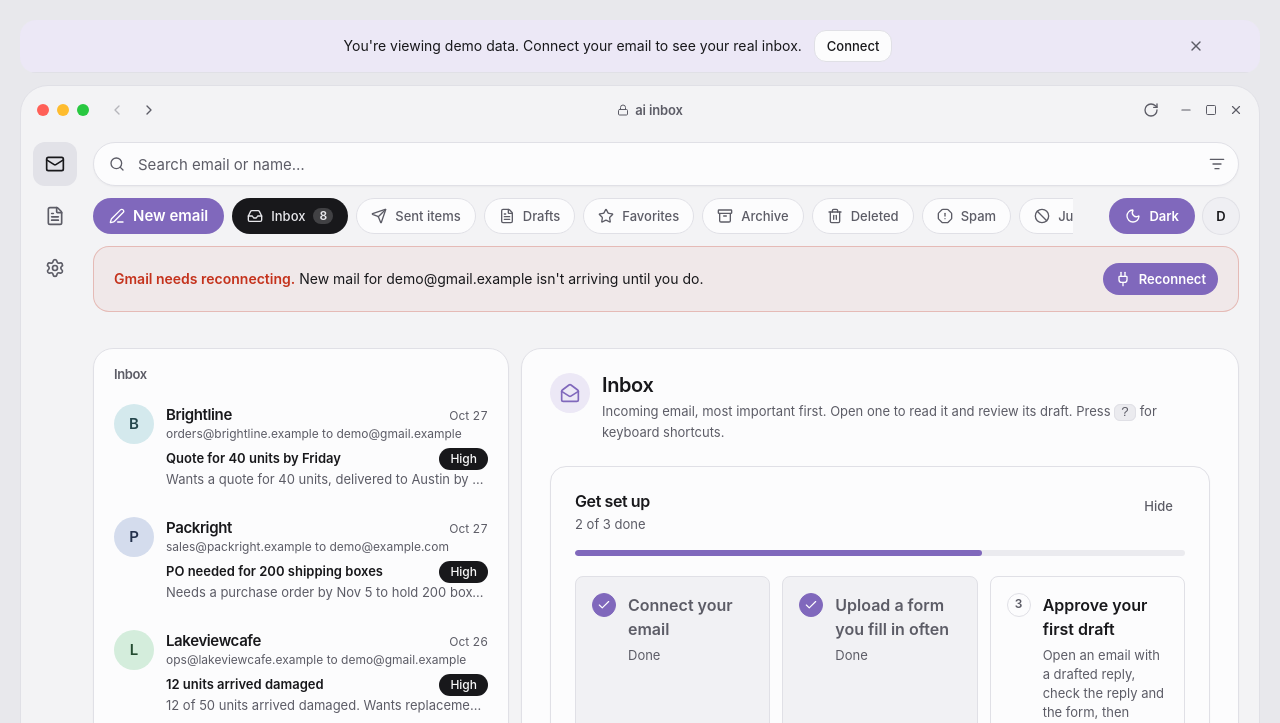
Test: app › reconnects the account that needs it, with its own provider
Expected: the message shows "Gmail needs reconnecting. New mail for demo@gmail.example", [93,246,1239,312]
Click the button "Reconnect" at (1160, 279), box [1103,263,1218,295]
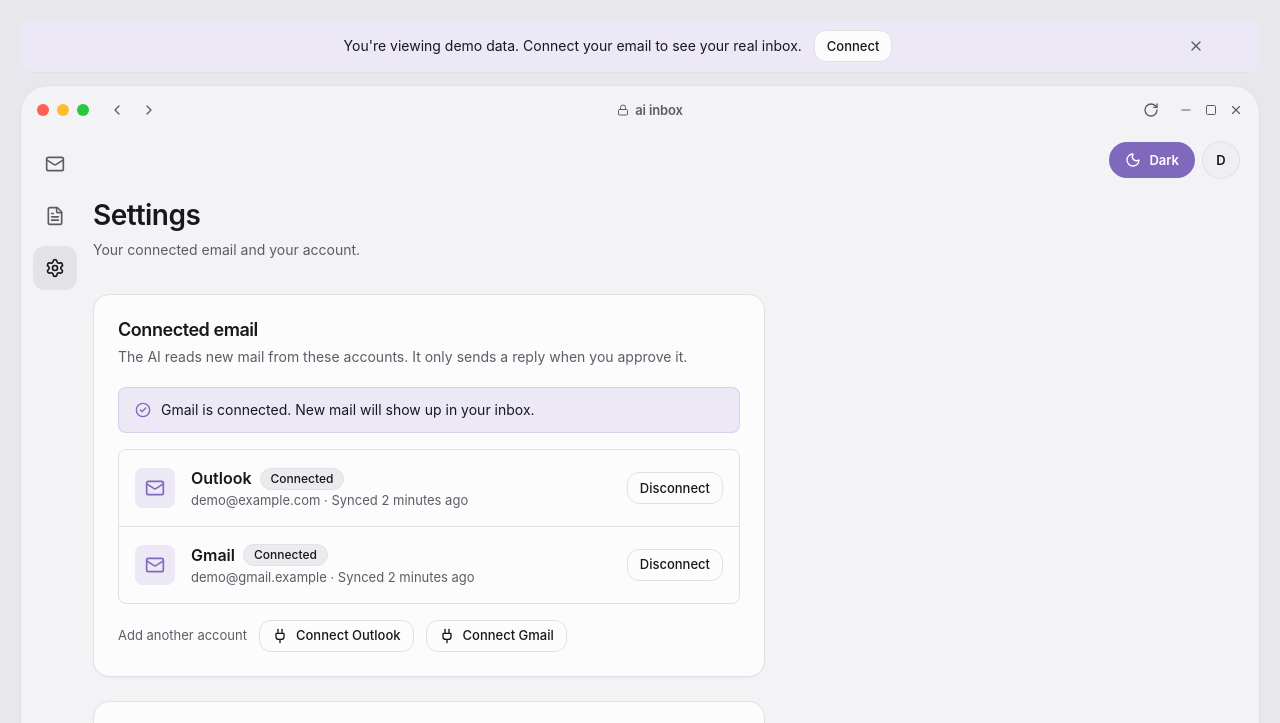
Expected: the text "Gmail is connected. New mail will show up in your inbox." is shown, [161,401,535,418]
